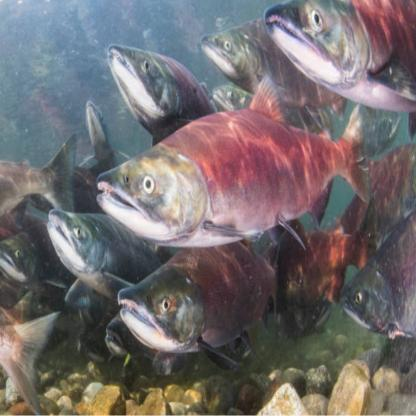sockeye: (110, 107, 370, 241), (115, 230, 343, 367), (266, 1, 416, 100), (50, 204, 182, 292)
sockeye-group: (44, 21, 400, 354)
